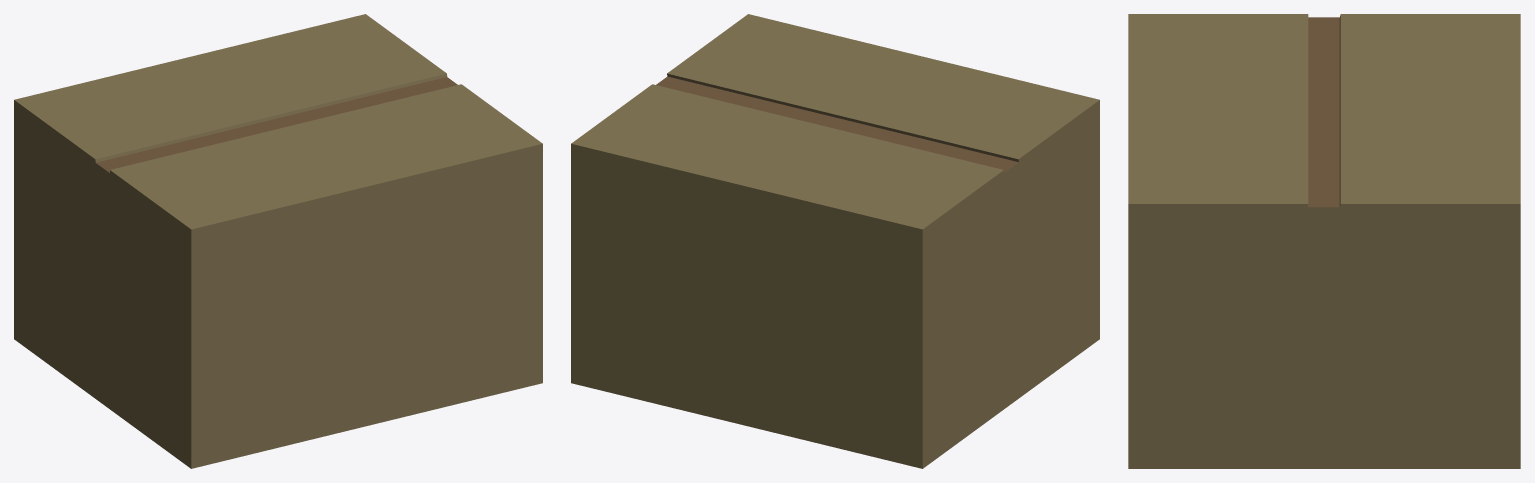
3 views of the same model, side by side, from view 1: azimuth 30°, elevation 25°; view 2: azimuth 150°, elevation 25°; view 3: azimuth 270°, elevation 25° (orthographic). The views are drawn at different scales.
Parts seen in each view (by area): view 1: Cube; view 2: Cube; view 3: Cube.
Boxes of the visible parts, x1,y1,x2,y2 form: Cube: (14, 14, 542, 468); Cube: (571, 14, 1099, 468); Cube: (1128, 14, 1520, 468).
Bounding box in the file's own units: 118 × 76.9 × 103.
